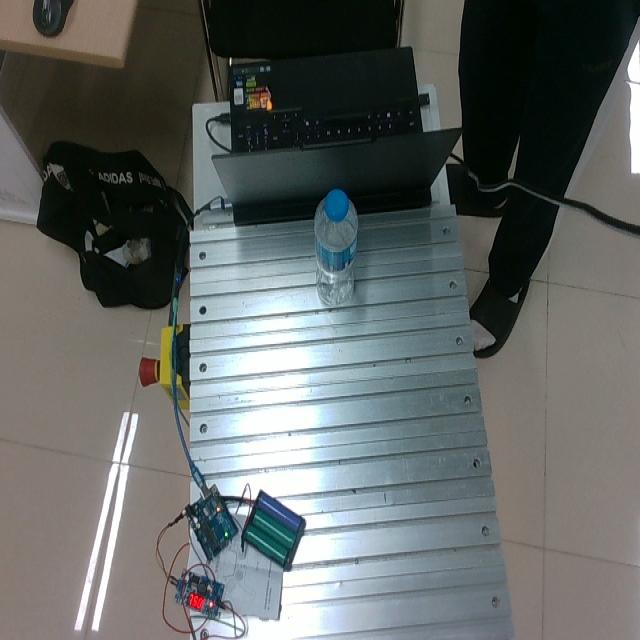lavie: (314, 189, 358, 307)
